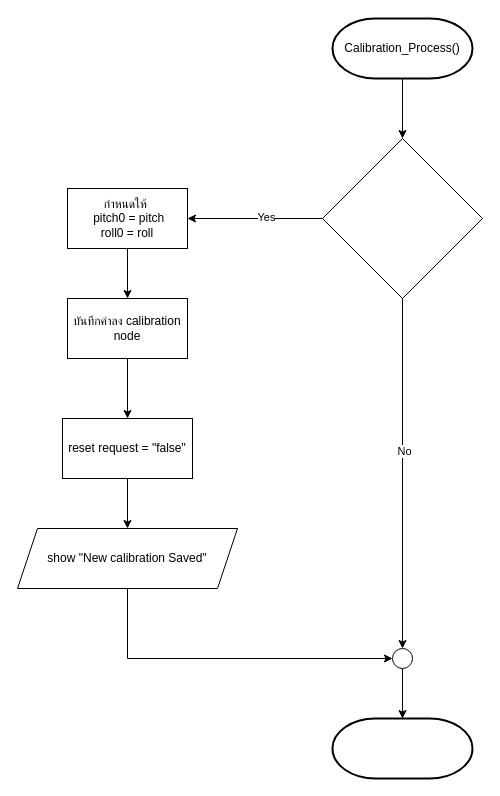
Image size: 500x796. Some labels were removed from this diagram. The shapes that lost their labels are listed below. From the top down, each one's centre as x and y in pixels, then its label:
the point at 402,218: calibration node มี request = "true" ไหม ?
the point at 402,748: return
